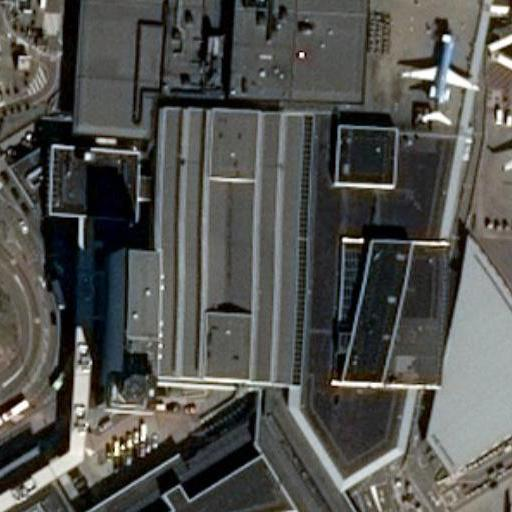Aircraft: (501, 69, 512, 231)
